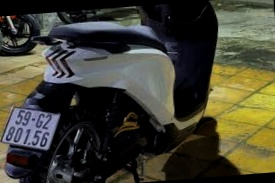Bien-so: (3, 94, 65, 143)
